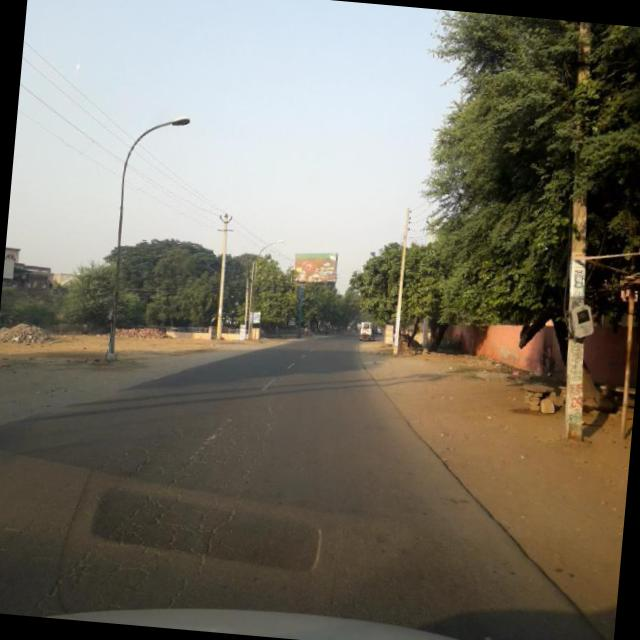crack: (0, 439, 236, 604)
